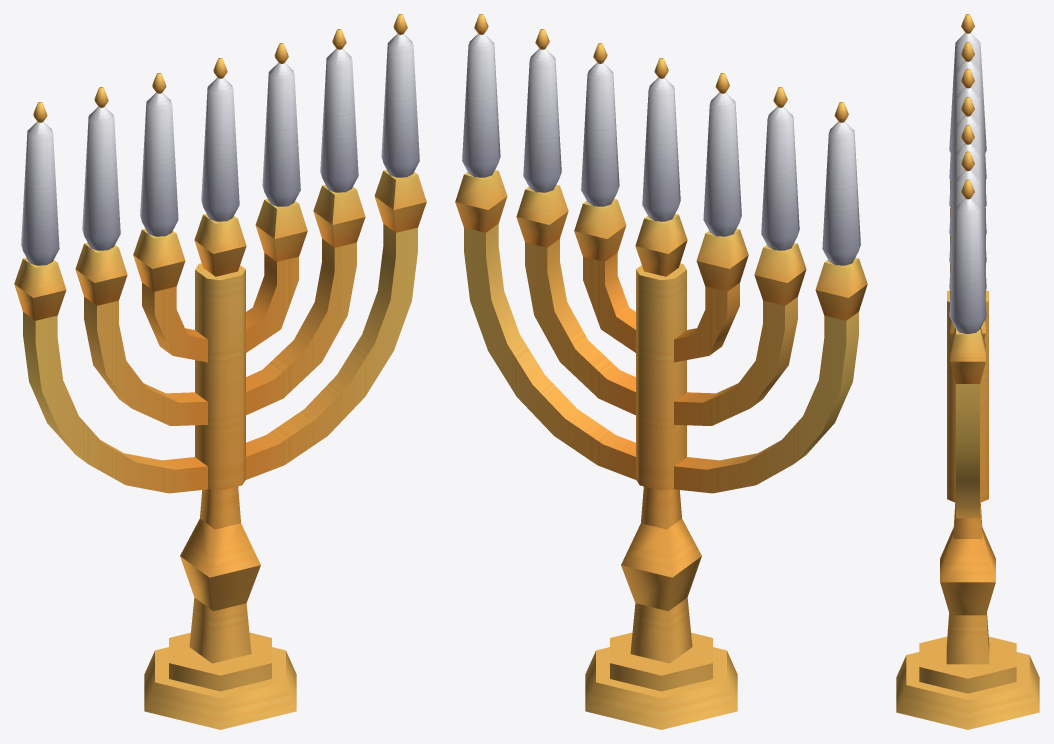
The model's file is hanukkah-menorah-candles.glb.
3 views of the same model, side by side, from view 1: azimuth 30°, elevation 25°; view 2: azimuth 150°, elevation 25°; view 3: azimuth 270°, elevation 25° (orthographic). The views are drawn at different scales.
Parts seen in each view (by area): view 1: hanukkah-menorah-candles; view 2: hanukkah-menorah-candles; view 3: hanukkah-menorah-candles.
Part boxes in pixels (left/top/right/bottom): hanukkah-menorah-candles: left=14, top=14, right=426, bottom=729; hanukkah-menorah-candles: left=455, top=14, right=867, bottom=729; hanukkah-menorah-candles: left=896, top=14, right=1039, bottom=729.
Bounding box in the file's own units: 0.566 × 0.8684 × 0.189.
1 material, 1 textured.
